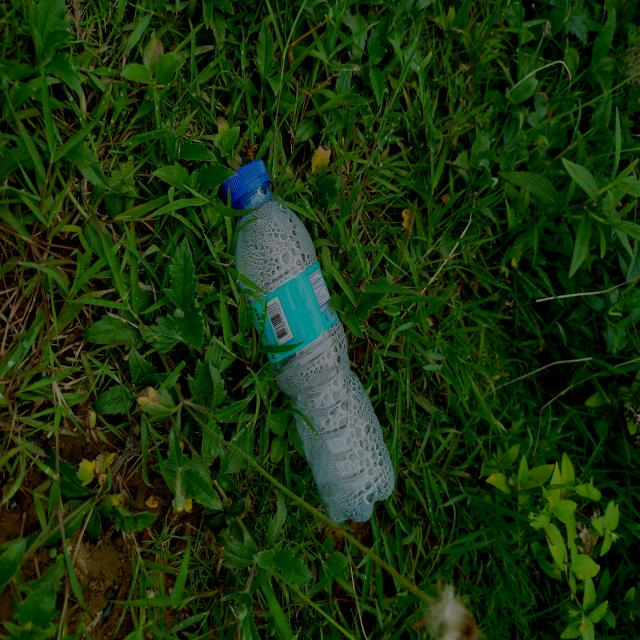plastic: (212, 149, 408, 532)
